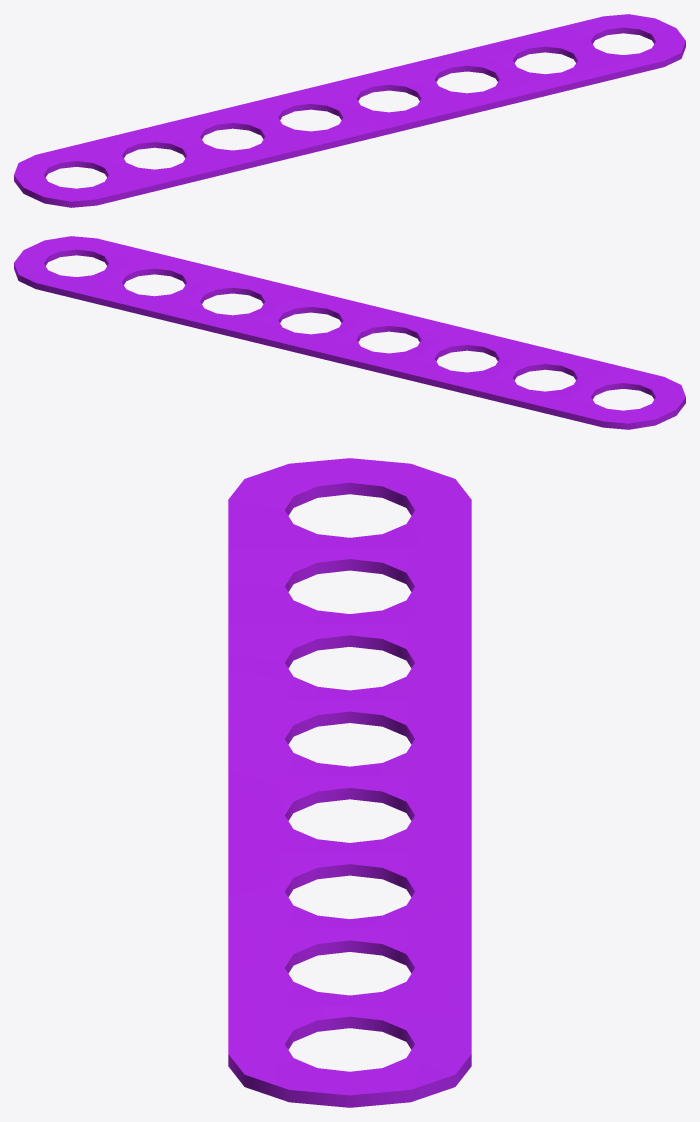
File: EightLongPink.fbx
3 views of the same model, one above another, from view 1: azimuth 30°, elevation 25°; view 2: azimuth 150°, elevation 25°; view 3: azimuth 270°, elevation 25° (orthographic). The views are drawn at different scales.
Visible parts, largest first — view 1: Blue8; view 2: Blue8; view 3: Blue8.
Part boxes in pixels (x1,y1,x2,y2): Blue8: (14,14,685,207); Blue8: (14,236,685,429); Blue8: (228,458,471,1107).
Size of the model in its own units: 21.36 by 0.1942 by 3.45.
